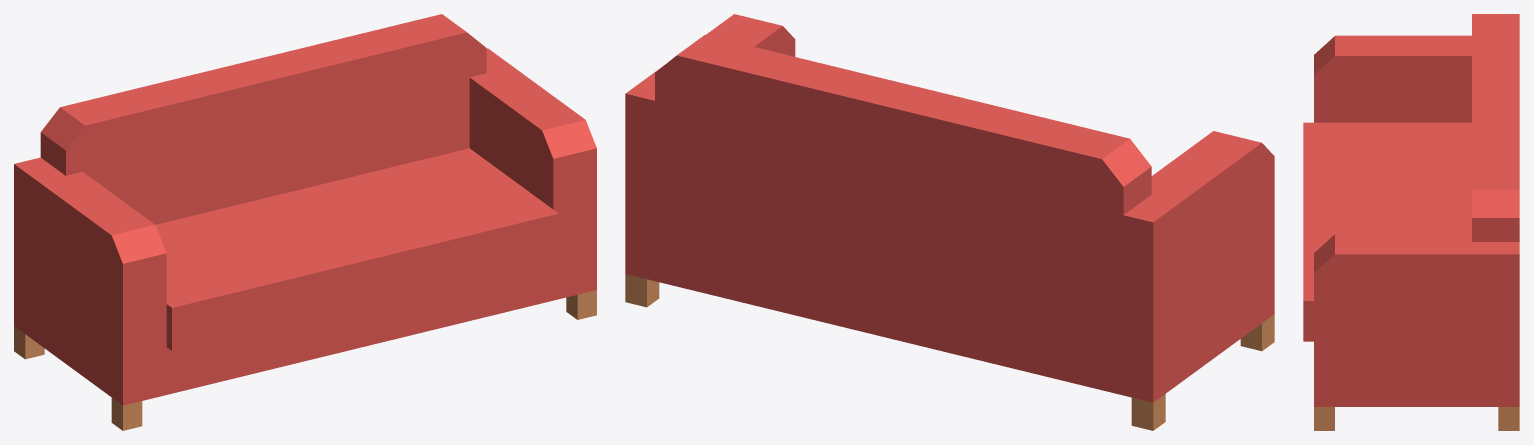
File: Lounge Sofa.glb
The picture shows the model from 3 angles, left to right: view 1: azimuth 30°, elevation 25°; view 2: azimuth 150°, elevation 25°; view 3: azimuth 270°, elevation 25°; orthographic projection. The views are drawn at different scales.
Visible parts, largest first — view 1: loungeSofa(Clone); view 2: loungeSofa(Clone); view 3: loungeSofa(Clone).
Boxes of the visible parts, x1=… form: loungeSofa(Clone): x1=14, y1=14, x2=596, y2=430; loungeSofa(Clone): x1=625, y1=14, x2=1274, y2=430; loungeSofa(Clone): x1=1303, y1=14, x2=1519, y2=430.
Size of the model in its own units: 0.98 by 0.46 by 0.41.
